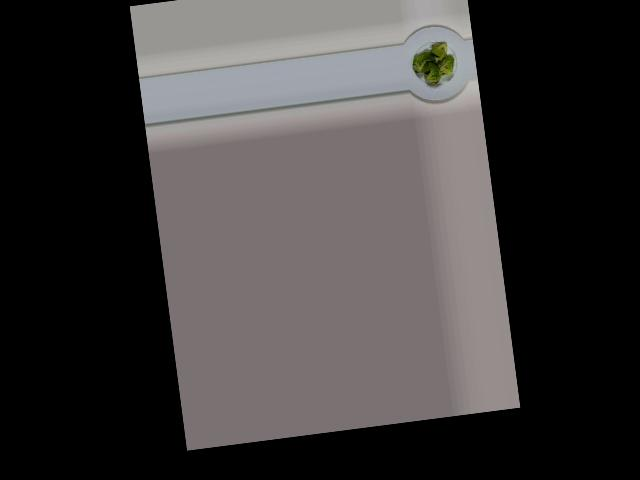lettuce: (406, 40, 456, 88)
